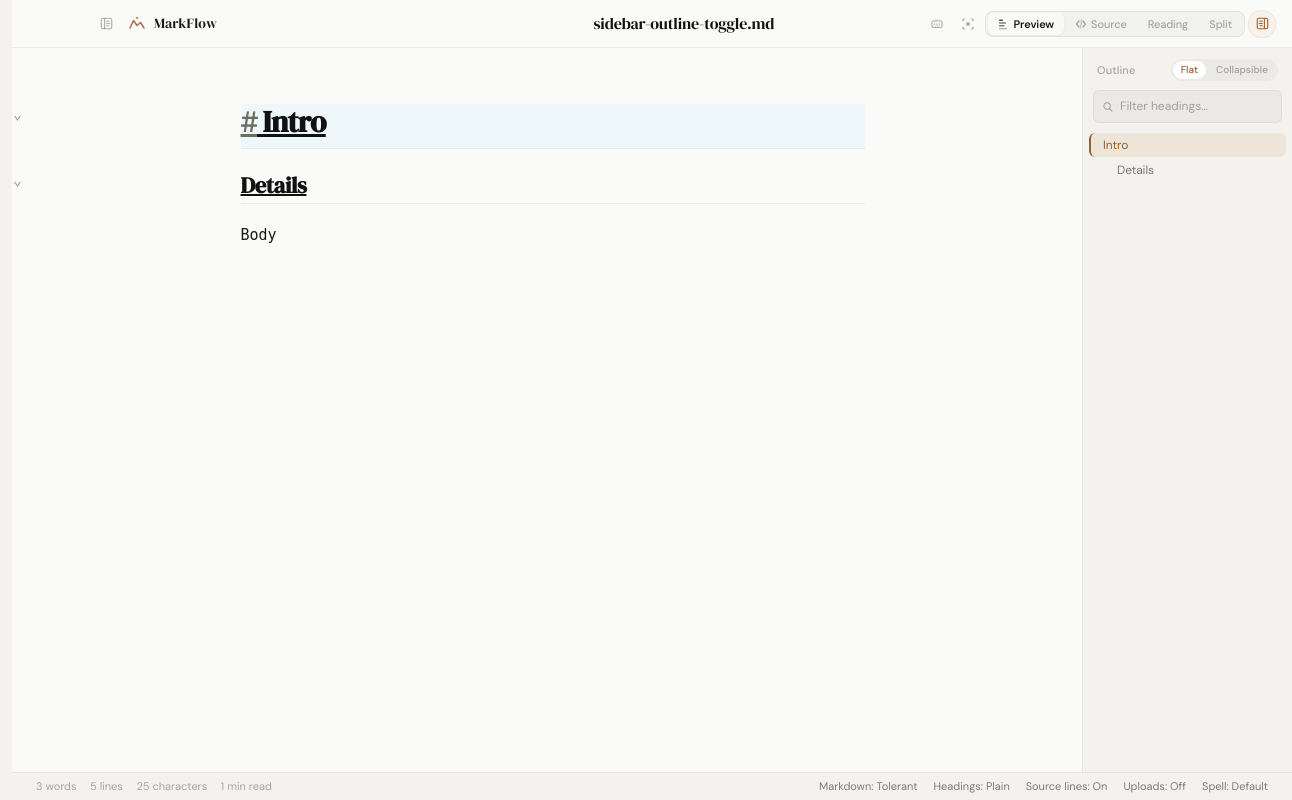
Test: App desktop integration › hides the titlebar outline toggle when the sidebar already shows the outline
Expected: the header with class "mf-titlebar" is shown, [12,0,1291,48]
Expected: the element with class "mf-titlebar-right" is shown, [922,10,1276,38]
Click the button named "Toggle file sidebar" at (106, 24), box [92,10,120,38]
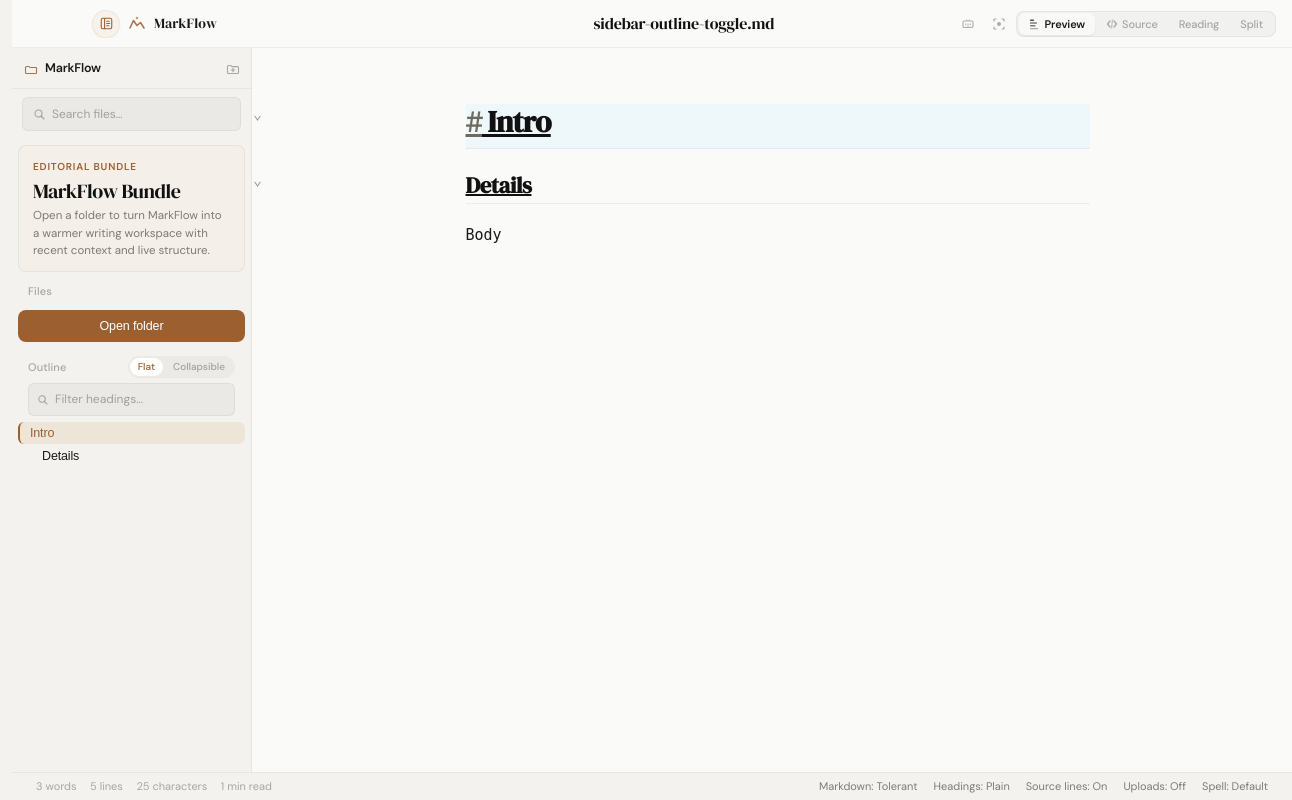
Expected: the text "Outline" is shown, [28,358,66,376]
Now the element with class "mf-sidebar" is shown, box [12,48,252,772]
